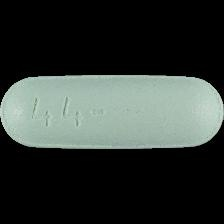50844-466: (0, 0, 224, 224)
